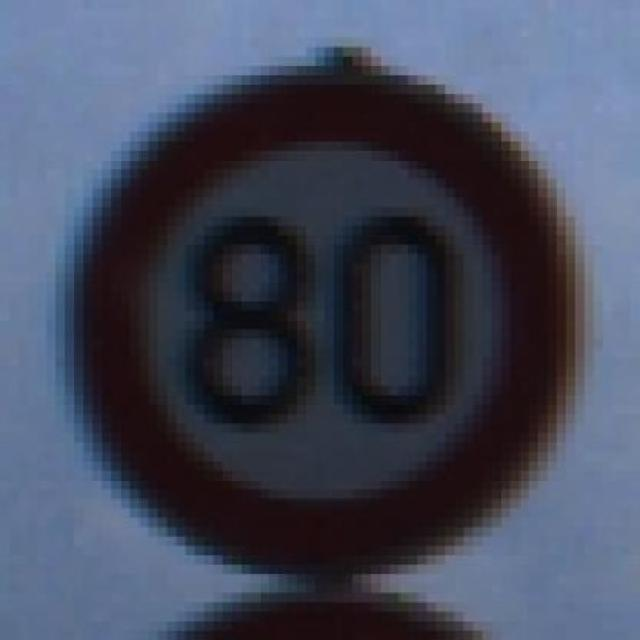forb_speed_over_80: (85, 81, 565, 570)
